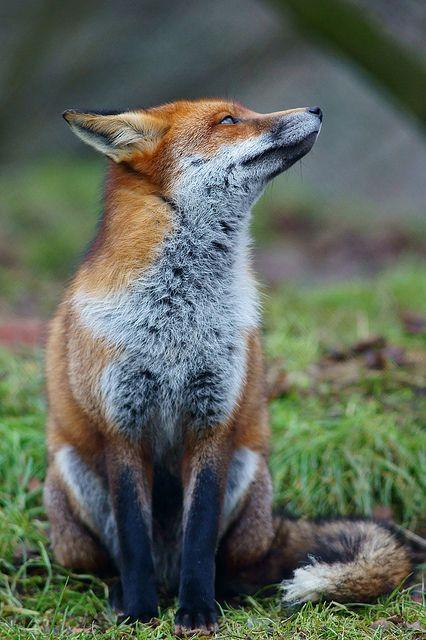fox: (27, 91, 417, 621)
